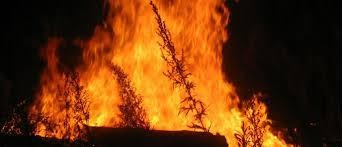fire: (19, 0, 303, 132)
